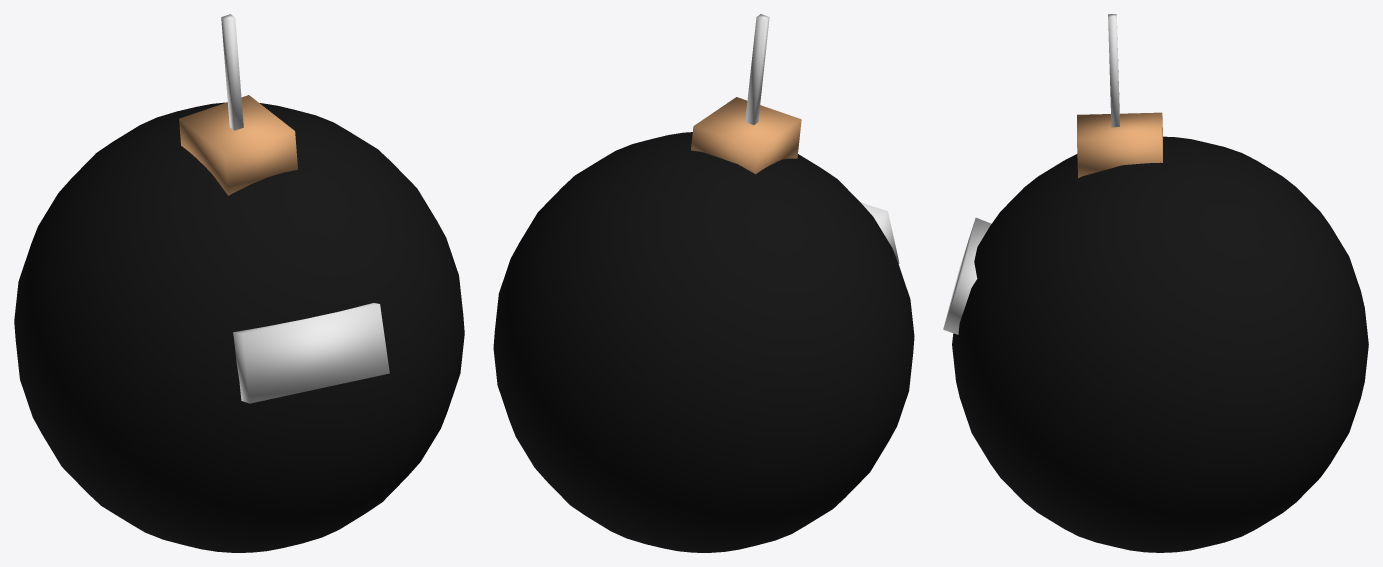
Rendered from Gunball.dae.
The picture shows the model from 3 angles, left to right: view 1: azimuth 30°, elevation 25°; view 2: azimuth 150°, elevation 25°; view 3: azimuth 270°, elevation 25°; orthographic projection. The views are drawn at different scales.
Visible parts, largest first — view 1: Sphere, Cube.001, Cube, Cube.002; view 2: Sphere, Cube, Cube.002, Cube.001; view 3: Sphere, Cube, Cube.001, Cube.002.
Boxes of the visible parts, x1,y1,x2,y2 form: Sphere: (14, 102, 464, 552); Cube.001: (233, 303, 389, 403); Cube: (179, 95, 297, 195); Cube.002: (221, 14, 243, 130); Sphere: (493, 132, 914, 552); Cube: (691, 97, 801, 174); Cube.002: (745, 14, 769, 124); Cube.001: (861, 202, 899, 263); Sphere: (952, 136, 1368, 552); Cube: (1077, 112, 1163, 178); Cube.001: (943, 217, 991, 334); Cube.002: (1108, 14, 1119, 127).
Bounding box in the file's own units: 2 × 2.04 × 2.66.
